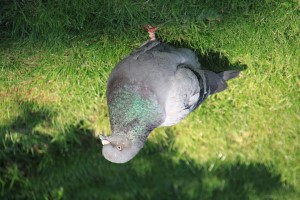pigeon: (97, 22, 241, 165)
